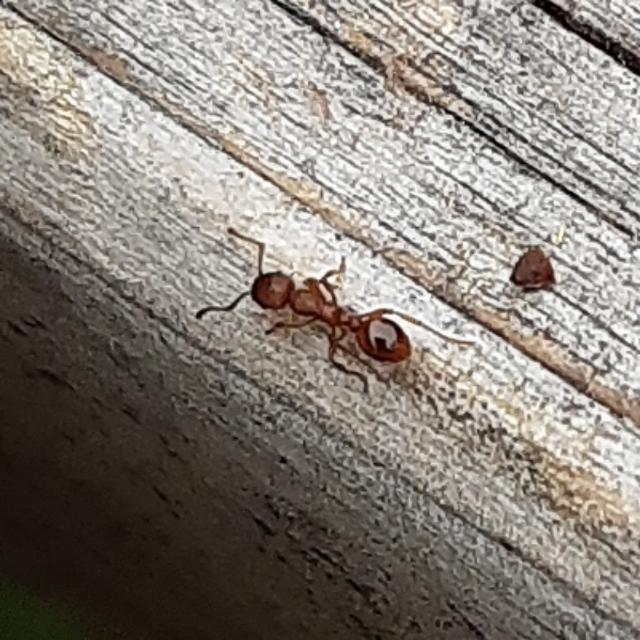Myrmica: (220, 225, 442, 389)
